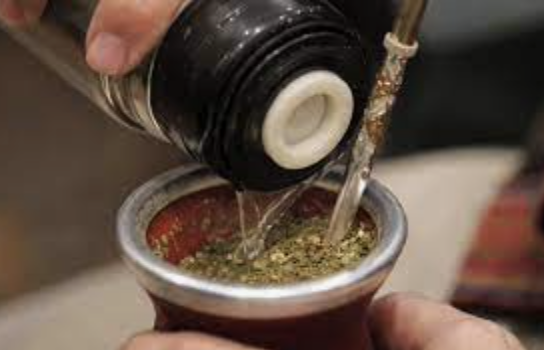calabaza: (116, 151, 410, 345)
mate: (116, 149, 420, 349)
